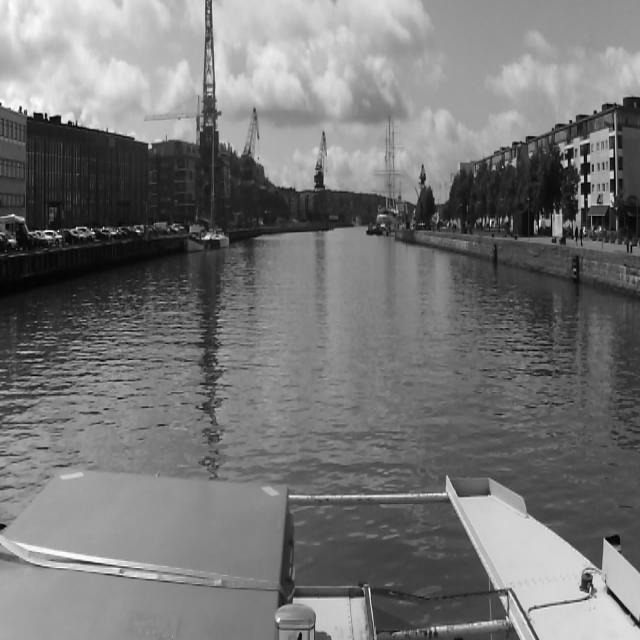ship: (371, 106, 411, 229), (204, 122, 230, 249), (186, 220, 204, 253), (366, 222, 376, 238), (374, 221, 384, 235)
